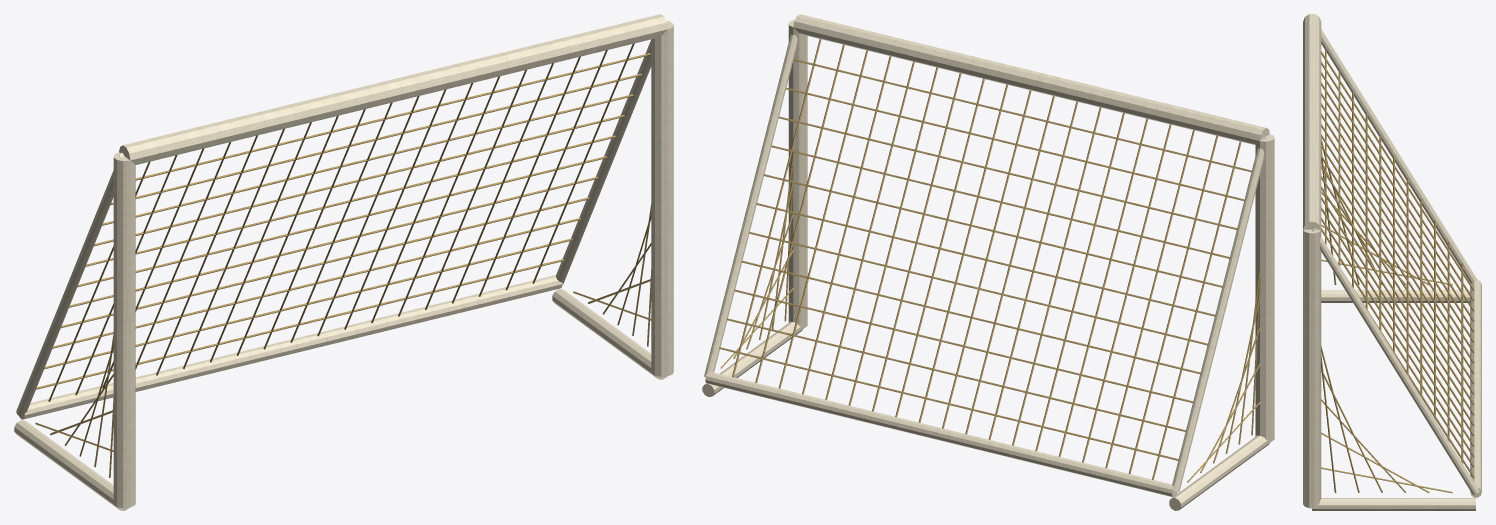
Rendered from beach-goal.glb.
The picture shows the model from 3 angles, left to right: view 1: azimuth 30°, elevation 25°; view 2: azimuth 150°, elevation 25°; view 3: azimuth 270°, elevation 25°; orthographic projection. The views are drawn at different scales.
Parts seen in each view (by area): view 1: beach-goal; view 2: beach-goal; view 3: beach-goal.
Boxes of the visible parts, box(x1,y1,x2,y2) form: beach-goal: box(14, 14, 673, 510); beach-goal: box(702, 14, 1274, 510); beach-goal: box(1303, 14, 1481, 510).
Bounding box in the file's own units: 3.1 × 1.94 × 1.09.
Materials: 1 (1 with a texture image).
